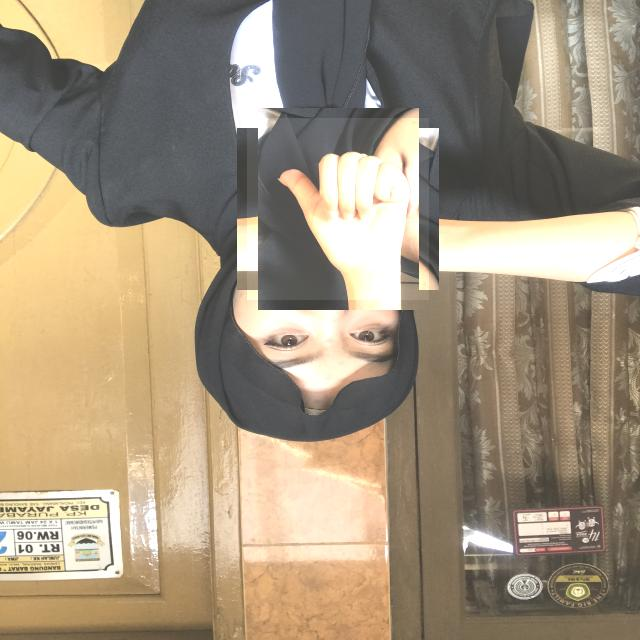sedih: (247, 118, 429, 300)
